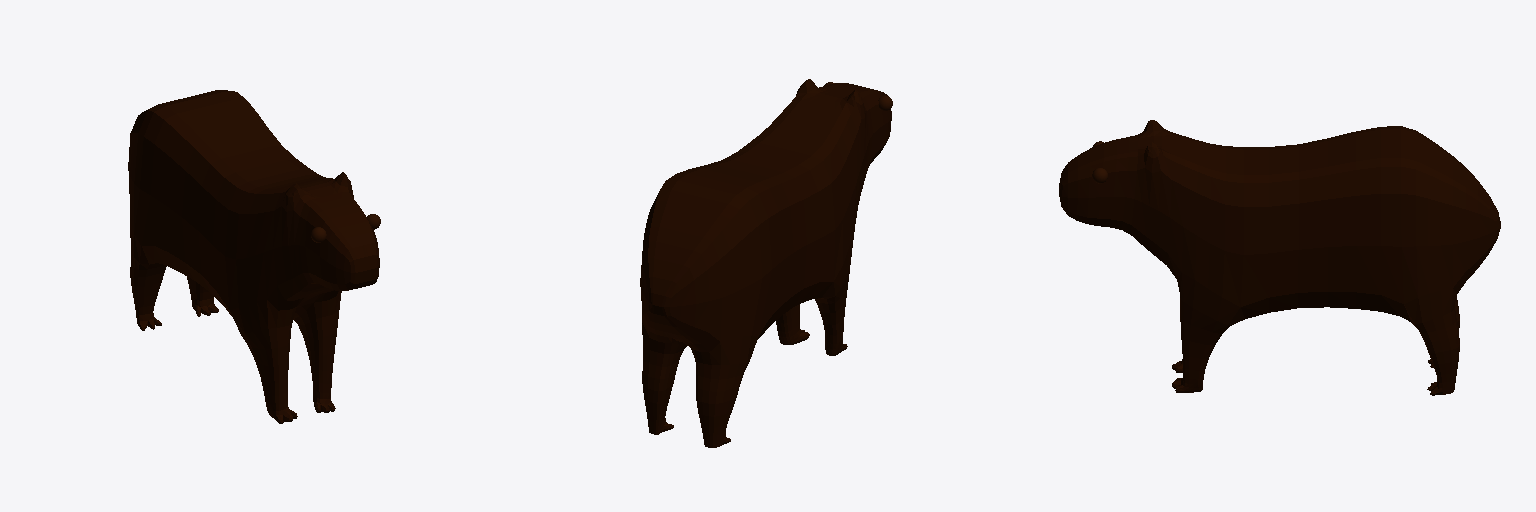
Rendered from outline.obj.
3 views of the same model, side by side, from view 1: azimuth 30°, elevation 25°; view 2: azimuth 150°, elevation 25°; view 3: azimuth 270°, elevation 25° (orthographic).
Visible parts, largest first — view 1: Body; view 2: Body; view 3: Body.
Boxes of the visible parts, x1=… form: Body: x1=128, y1=90, x2=379, y2=423; Body: x1=640, y1=79, x2=891, y2=447; Body: x1=1059, y1=120, x2=1500, y2=395.
Bounding box in the file's own units: 1.34 × 2.89 × 4.64.